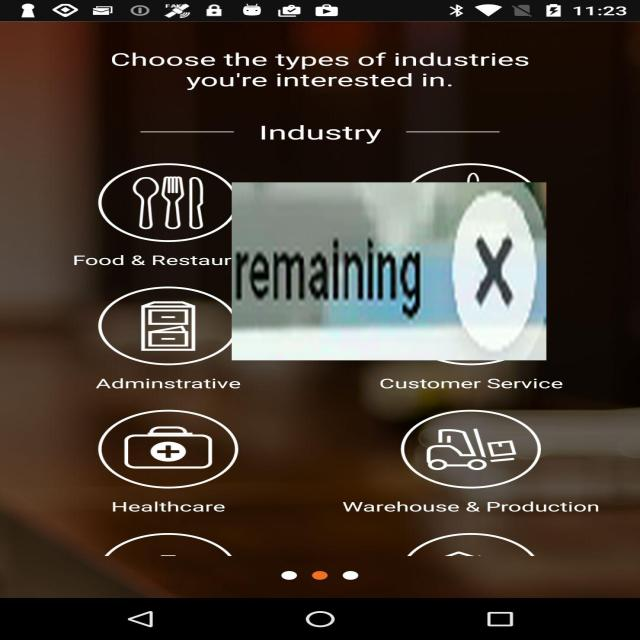misdirection: (232, 182, 546, 360)
